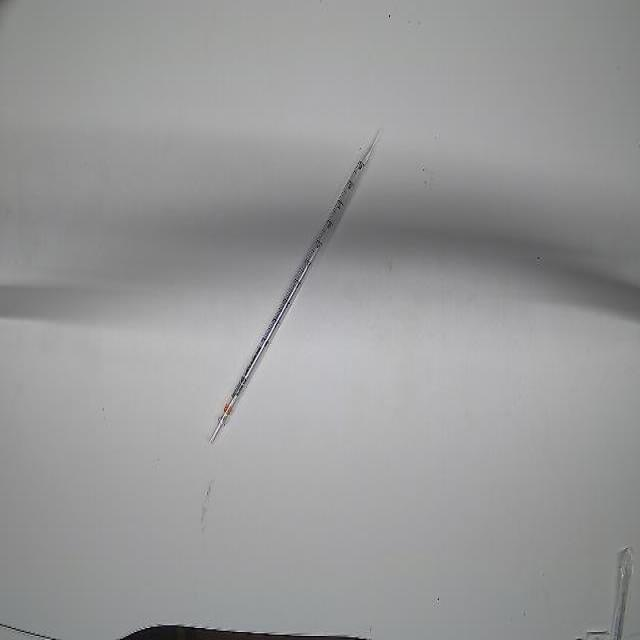Serelogical Pipet 10 mL: (208, 124, 389, 448)
